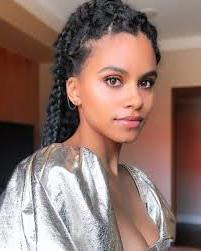Sober: (82, 39, 154, 143)
